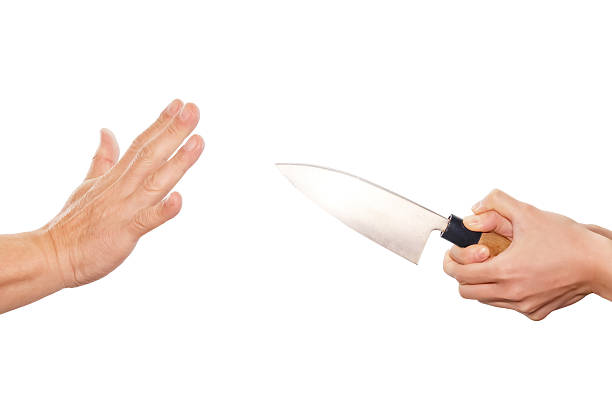knife: (273, 161, 512, 266)
